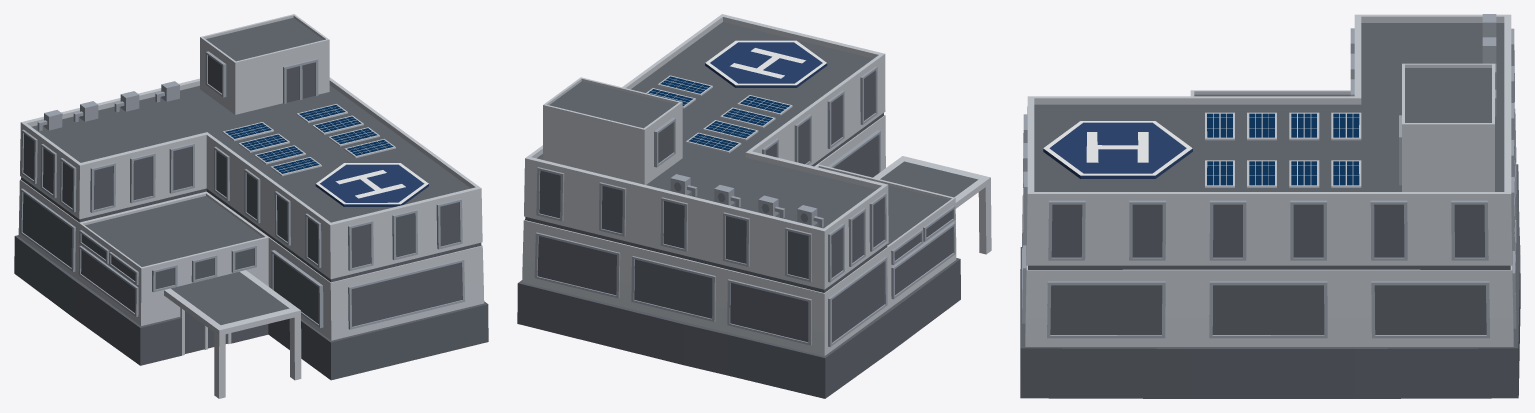
File: Building_Hospital.fbx
3 views of the same model, side by side, from view 1: azimuth 30°, elevation 25°; view 2: azimuth 150°, elevation 25°; view 3: azimuth 270°, elevation 25° (orthographic). The views are drawn at different scales.
Visible parts, largest first — view 1: Building_Hospital; view 2: Building_Hospital; view 3: Building_Hospital.
Boxes of the visible parts, x1=… form: Building_Hospital: x1=14, y1=14, x2=488, y2=398; Building_Hospital: x1=517, y1=14, x2=991, y2=398; Building_Hospital: x1=1020, y1=14, x2=1520, y2=398.
Bounding box in the file's own units: 2919 × 1942 × 3329.
